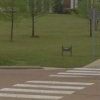crosswalk: (0, 69, 100, 98)
